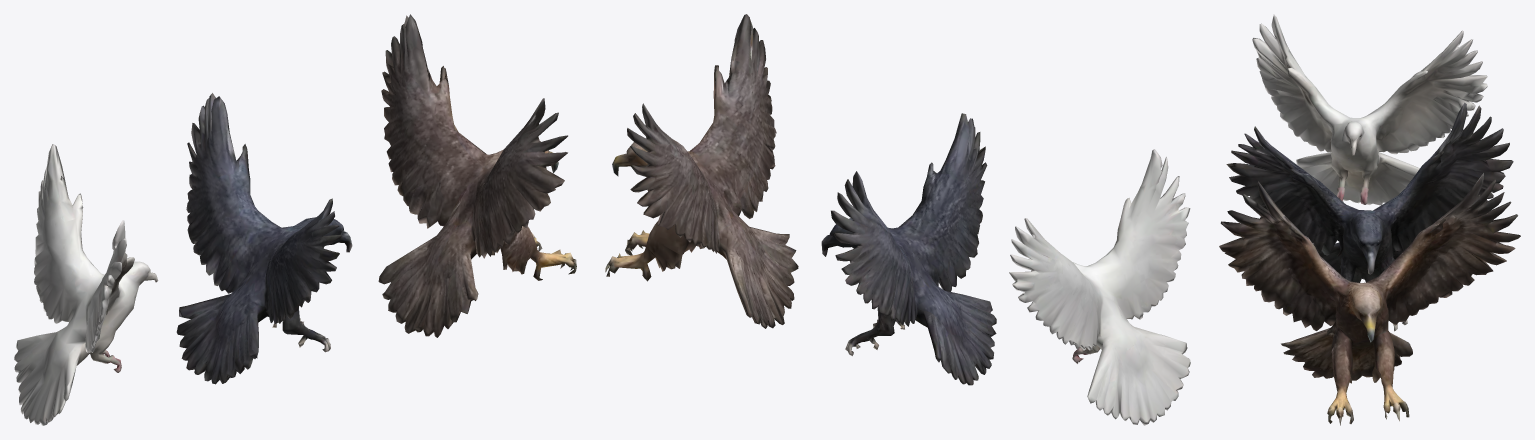
The model's file is birds.glb.
3 views of the same model, side by side, from view 1: azimuth 30°, elevation 25°; view 2: azimuth 150°, elevation 25°; view 3: azimuth 270°, elevation 25° (orthographic). The views are drawn at different scales.
Parts seen in each view (by area): view 1: eagle, crow, dove; view 2: eagle, dove, crow; view 3: eagle, dove, crow.
Part boxes in pixels (<box>): eagle: <box>378,14,576,337</box>; crow: <box>176,93,352,384</box>; dove: <box>14,144,158,425</box>; eagle: <box>605,14,798,328</box>; dove: <box>1009,149,1190,425</box>; crow: <box>821,113,996,385</box>; eagle: <box>1219,173,1520,425</box>; dove: <box>1252,14,1487,205</box>; crow: <box>1226,102,1513,331</box>.
Bounding box in the file's own units: 0.7066 × 0.3149 × 0.3566.
Materials: 1 (1 with a texture image).
